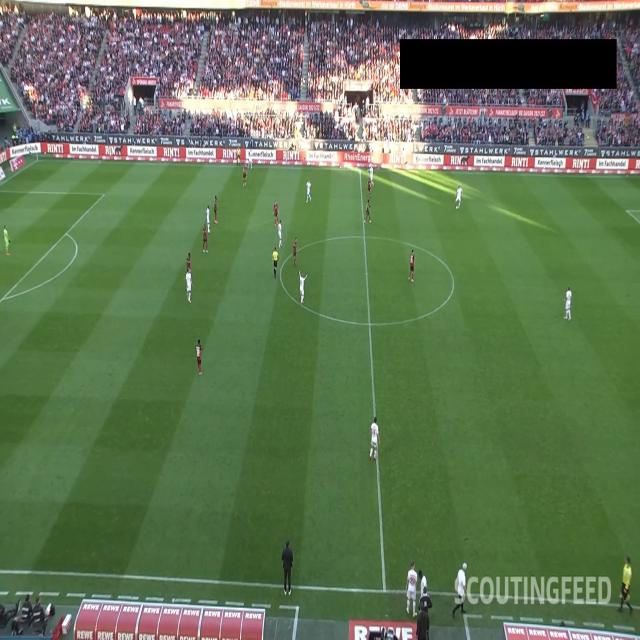ball: (456, 205, 458, 210)
